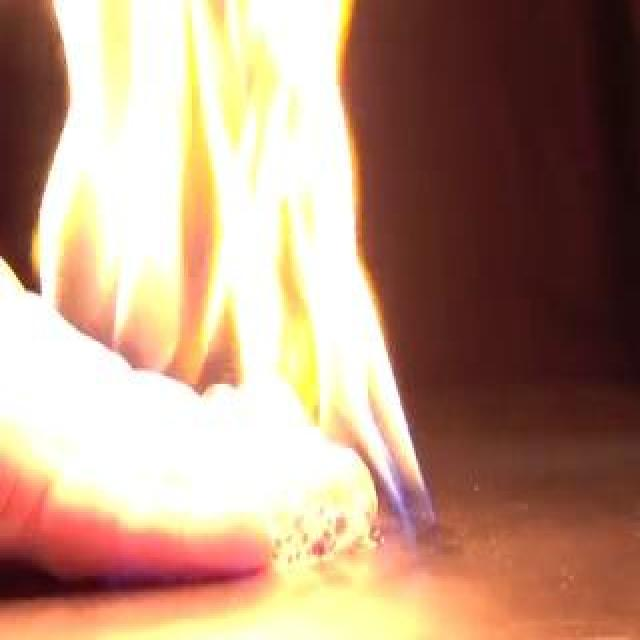Fire: (10, 3, 424, 557)
